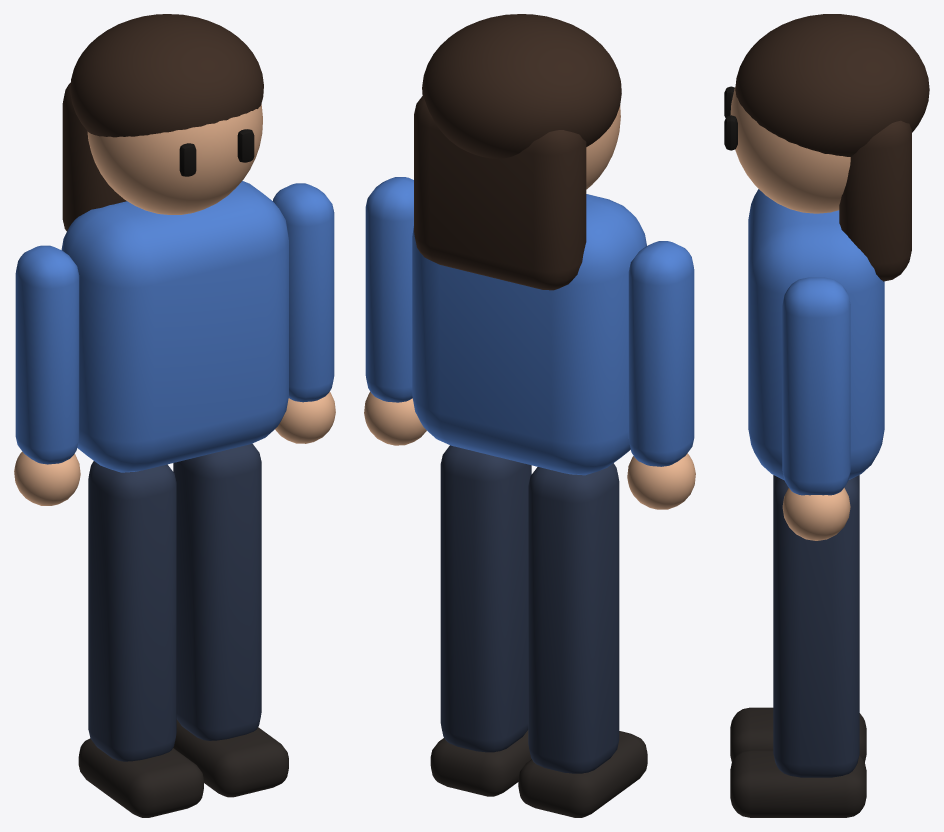
File: pessoa_b.glb
3 renders of one model, left to right at view 1: azimuth 30°, elevation 25°; view 2: azimuth 150°, elevation 25°; view 3: azimuth 270°, elevation 25°, orthographic. The views are drawn at different scales.
Parts seen in each view (by area): view 1: pessoa_b_tronco, Cube, Cube.002, Icosphere.003, Cube.004, Icosphere.002, Cube.005, Cube.001, Cube.003, Cube.006, Icosphere, Icosphere.001; view 2: pessoa_b_tronco, Cube, Cube.002, Cube.006, Icosphere.003, Cube.004, Cube.005, Cube.001, Cube.003, Icosphere, Icosphere.001, Icosphere.002; view 3: Cube.002, pessoa_b_tronco, Icosphere.003, Cube.005, Cube.006, Icosphere.002, Cube.003, Icosphere.001, Cube.001, Cube.008.
Part boxes in pixels (<box>): pessoa_b_tronco: <box>61,181,288,472</box>; Cube: <box>88,461,176,761</box>; Cube.002: <box>173,443,261,740</box>; Icosphere.003: <box>70,14,263,137</box>; Cube.004: <box>15,245,79,464</box>; Icosphere.002: <box>87,104,262,214</box>; Cube.005: <box>273,183,334,402</box>; Cube.001: <box>78,738,203,817</box>; Cube.003: <box>173,719,288,797</box>; Cube.006: <box>62,82,126,231</box>; Icosphere: <box>14,451,80,505</box>; Icosphere.001: <box>275,392,335,443</box>; pessoa_b_tronco: <box>412,194,646,475</box>; Cube: <box>528,463,619,773</box>; Cube.002: <box>440,445,531,752</box>; Cube.006: <box>414,96,586,290</box>; Icosphere.003: <box>422,14,621,158</box>; Cube.004: <box>628,241,694,466</box>; Cube.005: <box>365,177,413,402</box>; Cube.001: <box>518,731,647,817</box>; Cube.003: <box>430,730,531,796</box>; Icosphere: <box>627,453,695,509</box>; Icosphere.001: <box>364,391,426,445</box>; Icosphere.002: <box>586,105,620,189</box>; Cube.002: <box>773,477,859,777</box>; pessoa_b_tronco: <box>748,189,884,480</box>; Icosphere.003: <box>735,14,929,156</box>; Cube.005: <box>782,277,850,495</box>; Cube.006: <box>839,120,911,281</box>; Icosphere.002: <box>730,86,850,213</box>; Cube.003: <box>730,749,866,817</box>; Icosphere.001: <box>782,487,850,540</box>; Cube.001: <box>730,707,866,762</box>; Cube.008: <box>724,115,737,150</box>.
Size of the model in its own units: 0.81 by 1.84 by 0.452.
